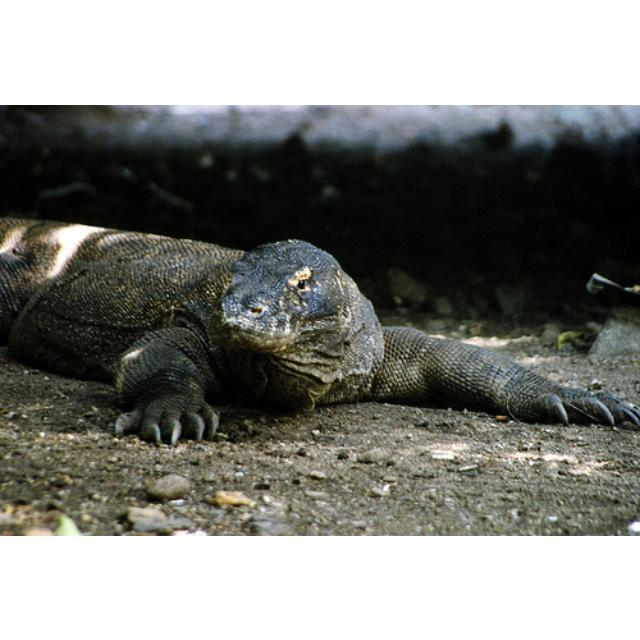KomodoDragon: (1, 215, 638, 447)
